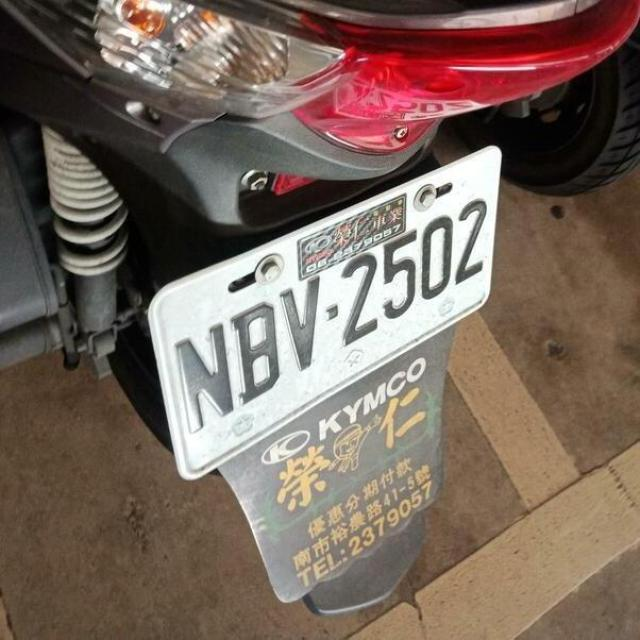W: (132, 159, 517, 471)
